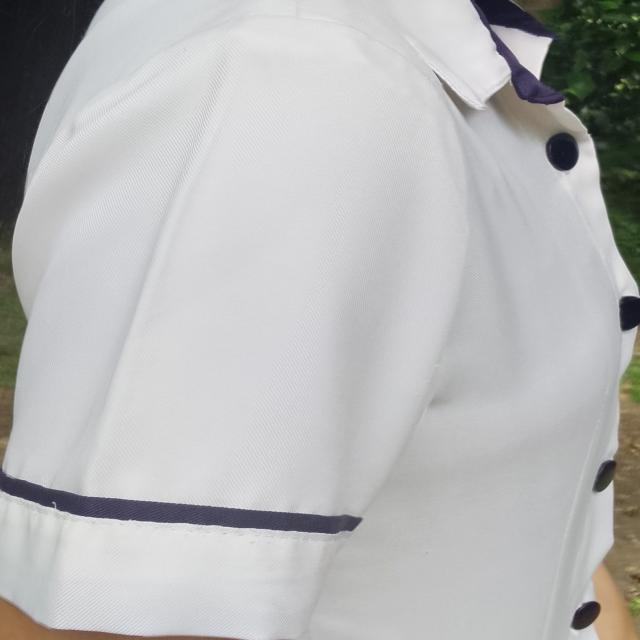education_female_uniform: (6, 1, 624, 640)
